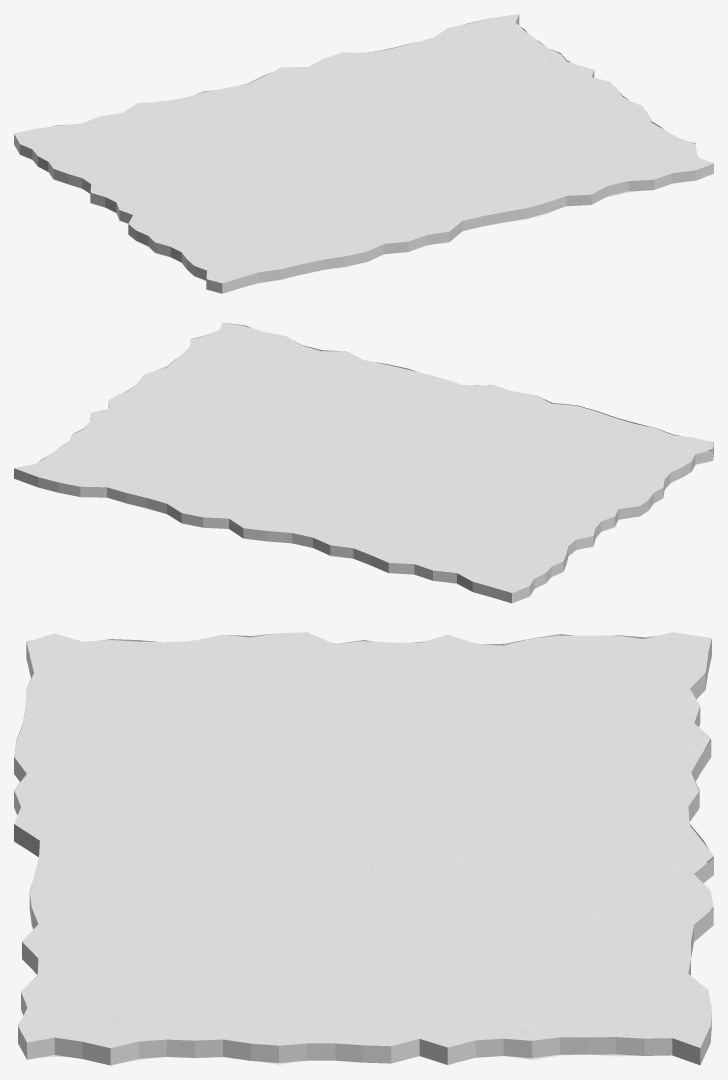
File: cotton_paper_2.glb
3 views of the same model, one above another, from view 1: azimuth 30°, elevation 25°; view 2: azimuth 150°, elevation 25°; view 3: azimuth 270°, elevation 25° (orthographic). The views are drawn at different scales.
Bounding box in the file's own units: 2.51 × 0.0608 × 1.79.
Materials: 1 (1 with a texture image).
